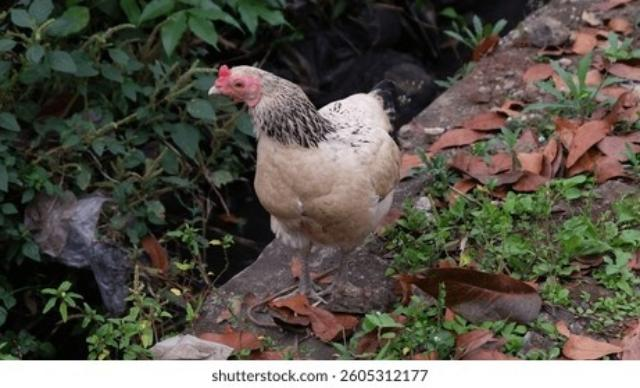Chicken: (209, 64, 400, 304)
